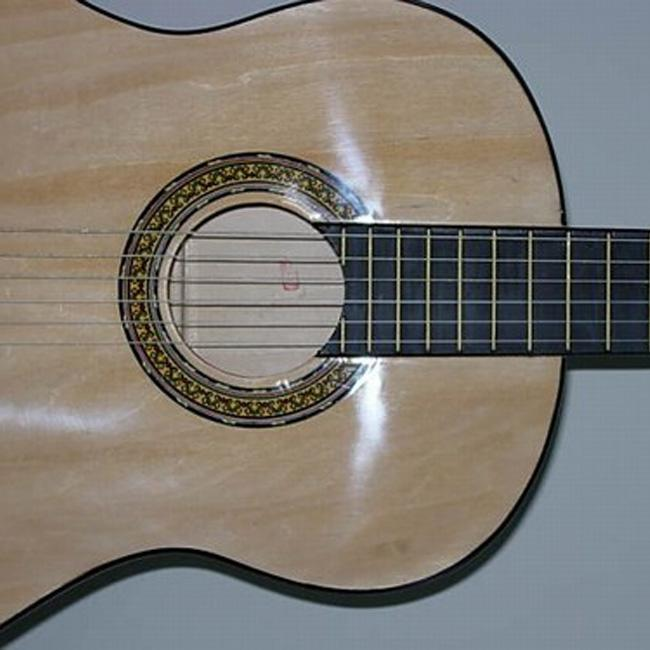guitar: (4, 7, 650, 646)
